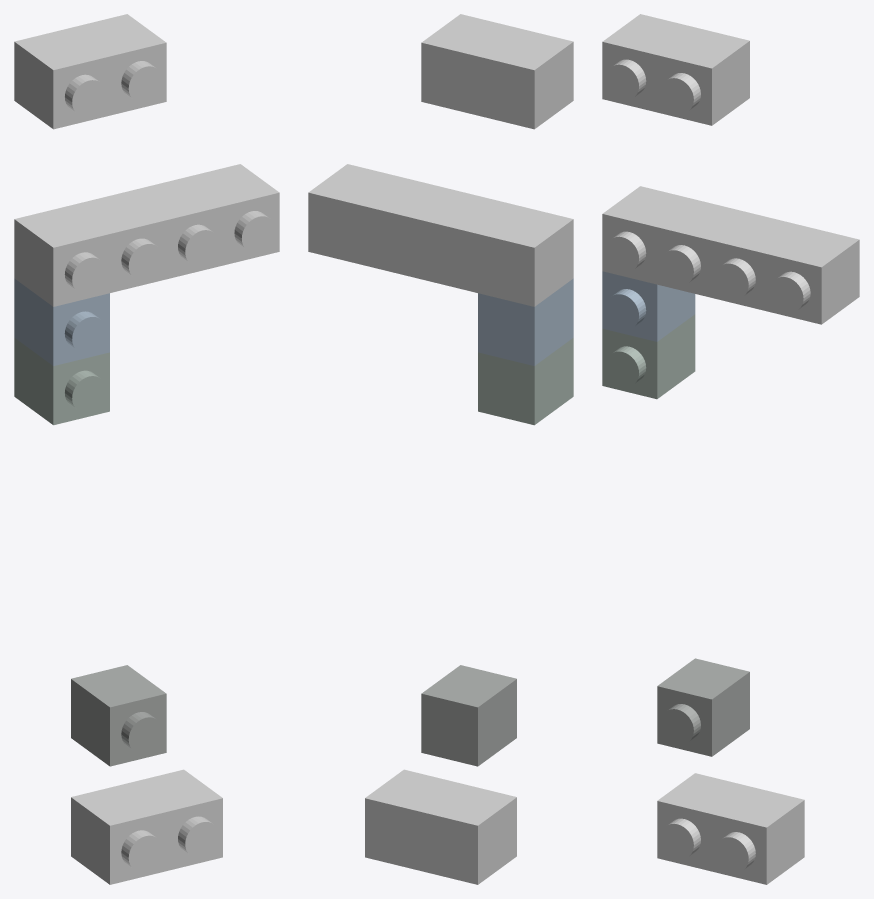
Rendered from current.glb.
3 renders of one model, left to right at view 1: azimuth 30°, elevation 25°; view 2: azimuth 150°, elevation 25°; view 3: azimuth 330°, elevation 25°, orthographic. The views are drawn at different scales.
Visible parts, largest first — view 1: world; view 2: world; view 3: world.
Part boxes in pixels (left/top/right/bottom): world: left=14, top=14, right=279, bottom=884; world: left=308, top=14, right=573, bottom=884; world: left=602, top=14, right=859, bottom=884.
Size of the model in its own units: 32 by 112 by 11.4.
